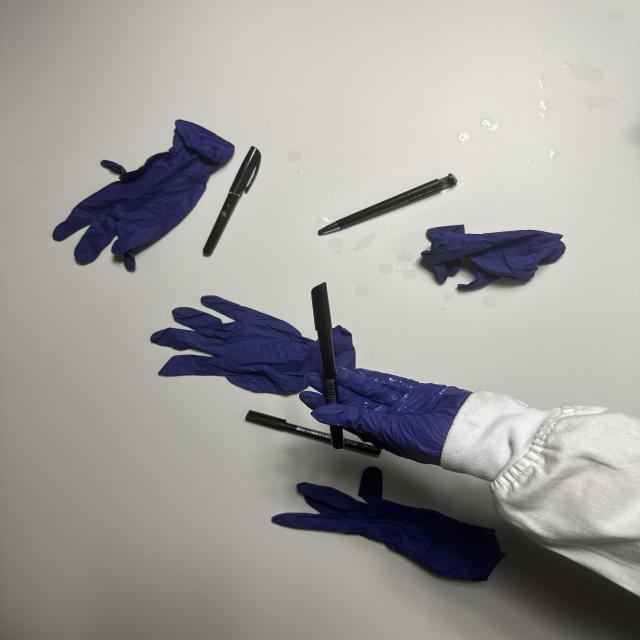gloves_contaminated: (299, 368, 472, 465)
